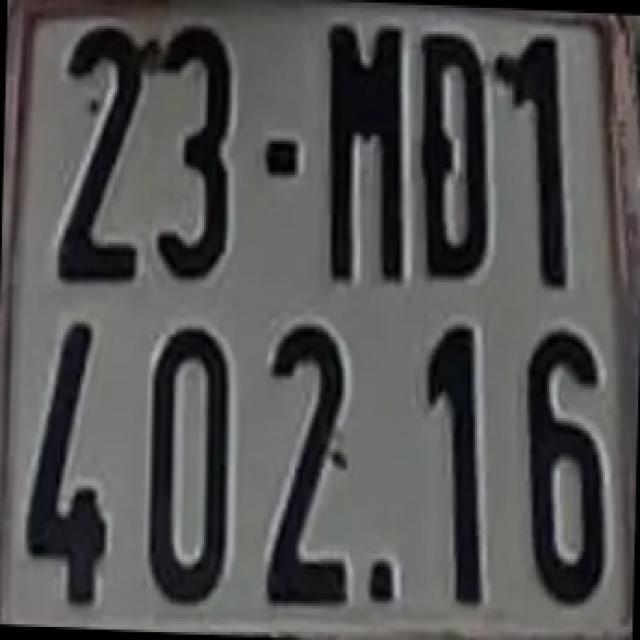0: (139, 316, 238, 609)
1: (420, 318, 496, 612), (497, 34, 575, 290)
2: (260, 310, 358, 612), (52, 21, 143, 288)
3: (156, 21, 236, 282)
4: (22, 311, 117, 609)
6: (522, 324, 610, 612)
D: (417, 31, 490, 282)
M: (322, 20, 414, 288)
